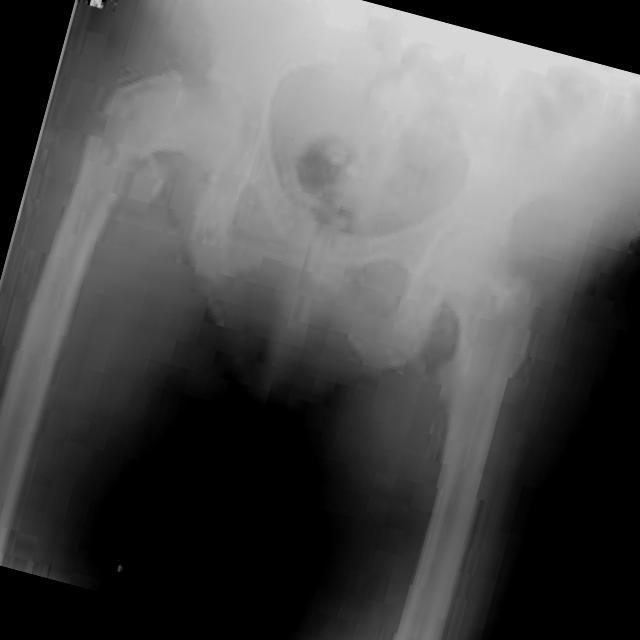Comminuted Fracture: (86, 98, 134, 166)
